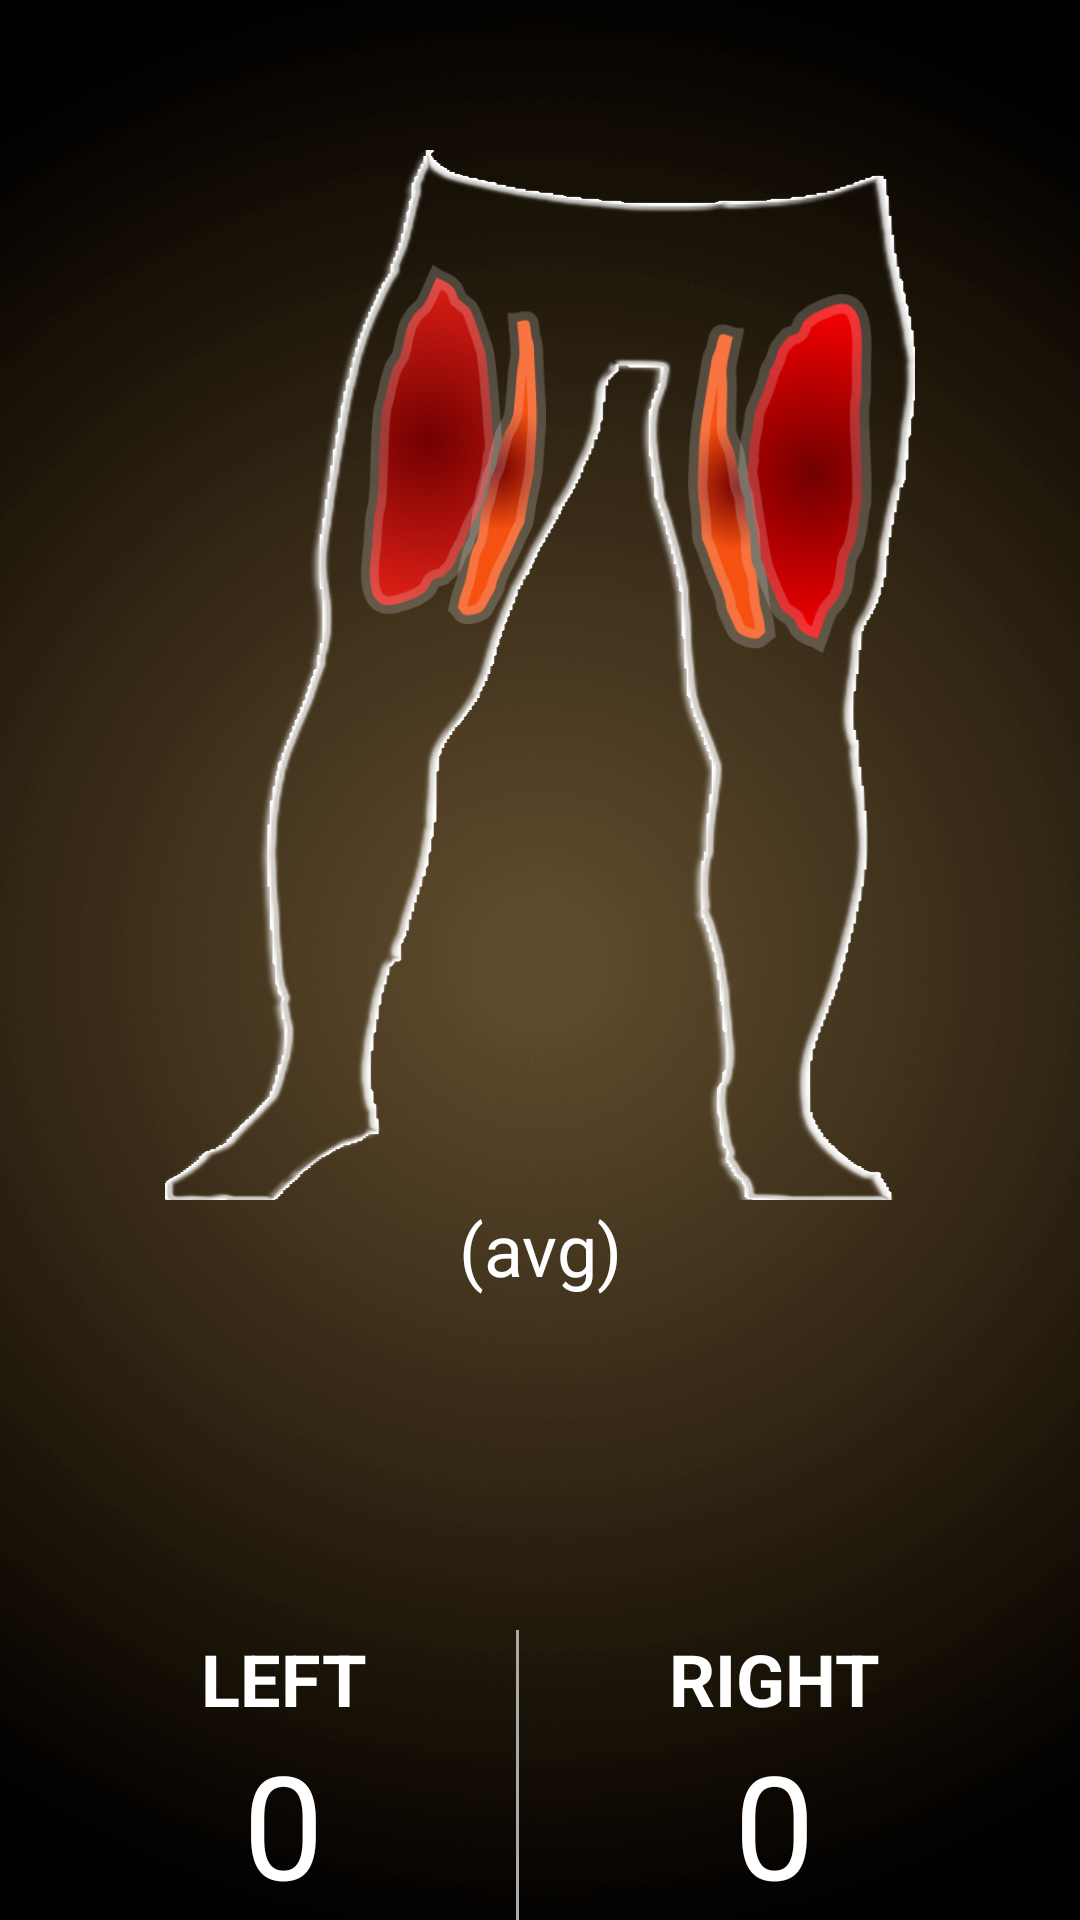

Where to tap for icons on this 1080*1920 app screen, as point (x, y):
leftmuscle: point (453, 444)
rightmuscle: point (780, 474)
